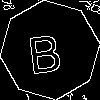B: (25, 25, 64, 74)
